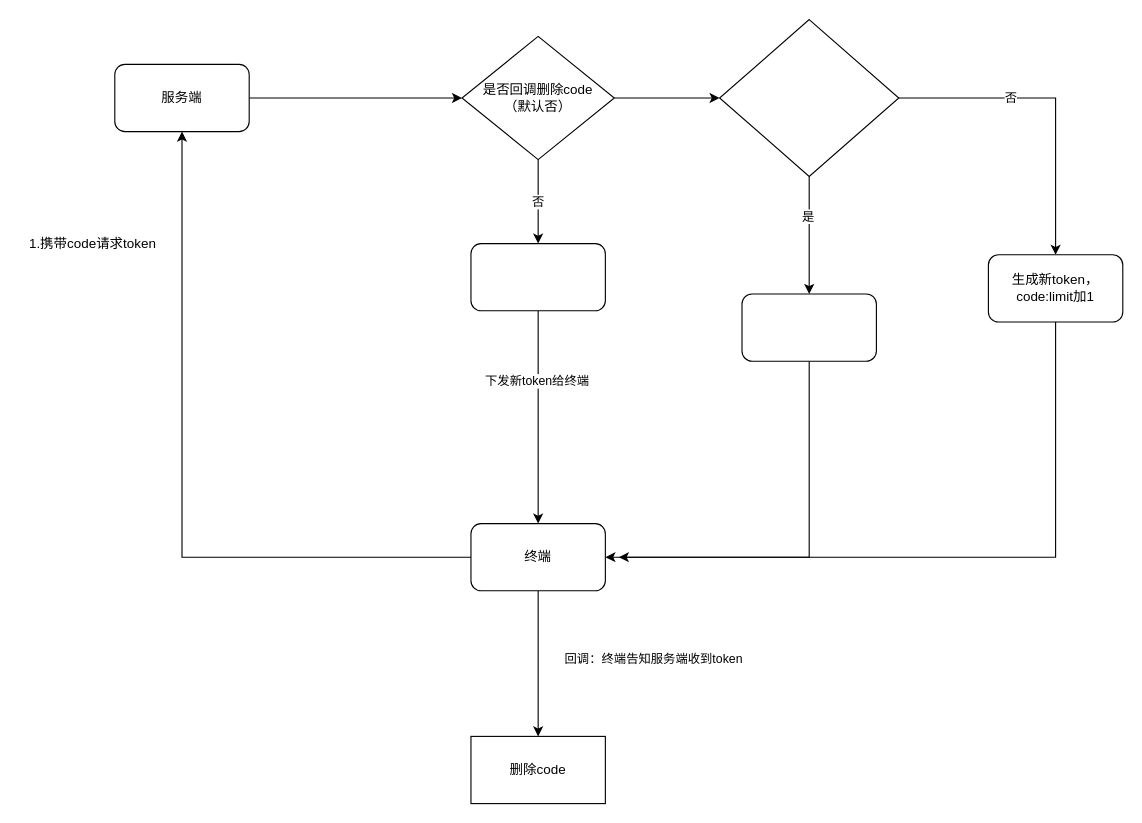
Image size: 1142x823. Some labels were removed from this diagram. The centre of each missing label's shape, as x and y in pixels:
"删除code，返回code超limit，请重新获取code" goes at (x=808, y=327).
"判断code使用次数>n? （ 避免终端一直不回调重复多次使用code生成token ）" goes at (x=808, y=97).
"服务端刷新token逻辑，并删除code" goes at (x=537, y=276).
